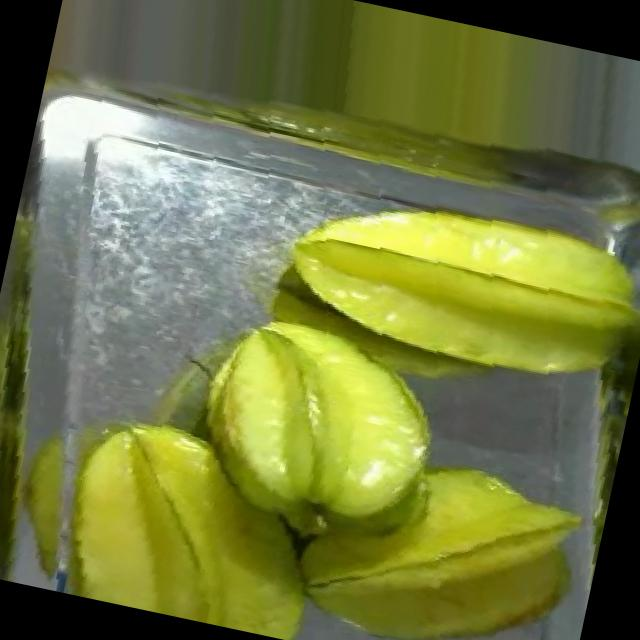fruit: (255, 157, 640, 414), (166, 289, 470, 565), (35, 387, 361, 640), (258, 409, 611, 640)
